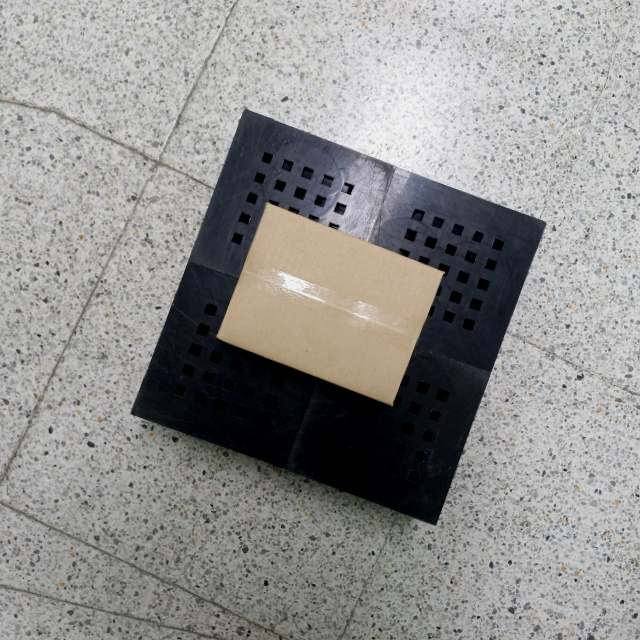box: (216, 197, 444, 411)
pallet: (125, 97, 554, 533)
